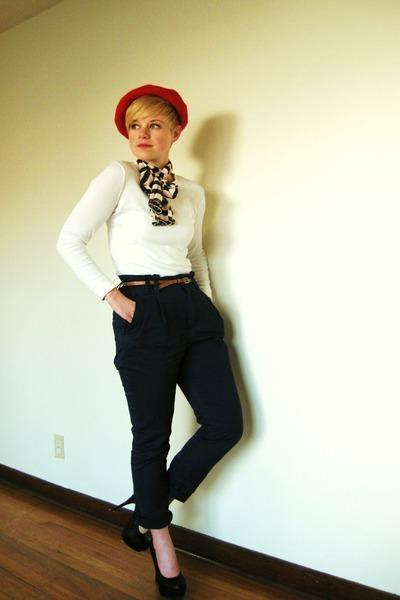long sleeve shirt: (53, 161, 229, 305)
trousers: (107, 268, 247, 536)
